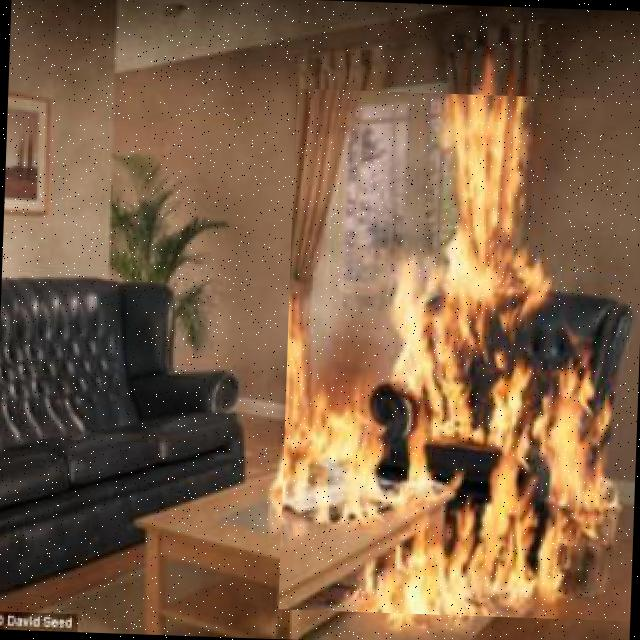fire: (278, 88, 640, 621)
